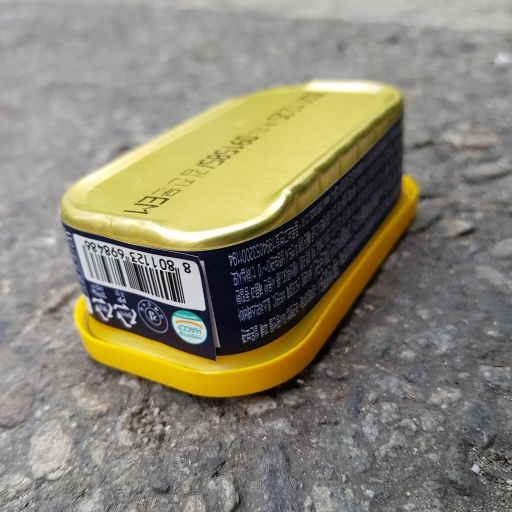Metal_2: (47, 76, 425, 401)
